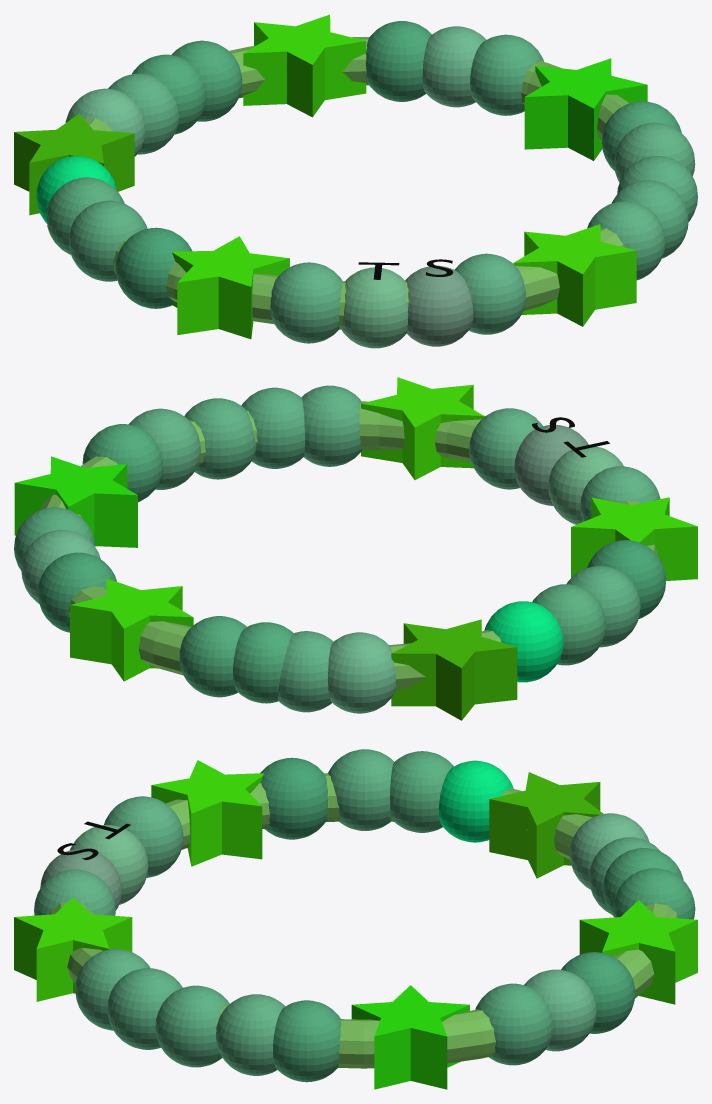
File: TaylorSwift_TS.fbx
3 renders of one model, top to bottom at view 1: azimuth 30°, elevation 25°; view 2: azimuth 150°, elevation 25°; view 3: azimuth 270°, elevation 25°, orthographic.
Visible parts, largest first — view 1: Star.080, Star.076, Star.077, Star.079, Torus.024, Star.078, Sphere.471, Sphere.470, Sphere.469, Sphere.481, Sphere.483, Sphere.477 (+14 smaller); view 2: Star.078, Torus.024, Star.080, Star.077, Star.079, Star.076, Sphere.475, Sphere.486, Sphere.468, Sphere.485, Sphere.478, Sphere.479 (+14 smaller); view 3: Torus.024, Star.079, Star.077, Star.078, Star.076, Star.080, Sphere.484, Sphere.483, Sphere.472, Sphere.485, Sphere.476, Sphere.474 (+14 smaller).
Part boxes in pixels (bbox=[...]): Star.080: bbox=[243, 14, 366, 117]; Star.076: bbox=[513, 224, 636, 326]; Star.077: bbox=[524, 58, 647, 160]; Star.079: bbox=[172, 236, 289, 339]; Torus.024: bbox=[84, 37, 629, 329]; Star.078: bbox=[14, 114, 134, 215]; Sphere.471: bbox=[270, 262, 342, 343]; Sphere.470: bbox=[341, 267, 407, 348]; Sphere.469: bbox=[405, 265, 473, 346]; Sphere.481: bbox=[366, 21, 431, 101]; Sphere.483: bbox=[470, 34, 543, 115]; Sphere.477: bbox=[454, 253, 526, 334]; Star.078: bbox=[391, 619, 517, 720]; Torus.024: bbox=[40, 401, 657, 690]; Star.080: bbox=[70, 578, 193, 681]; Star.077: bbox=[14, 456, 137, 547]; Star.079: bbox=[571, 497, 697, 580]; Star.076: bbox=[361, 377, 484, 479]; Sphere.475: bbox=[328, 632, 395, 713]; Sphere.486: bbox=[301, 385, 362, 466]; Sphere.468: bbox=[484, 601, 563, 682]; Sphere.485: bbox=[184, 398, 255, 479]; Sphere.478: bbox=[179, 616, 246, 697]; Sphere.479: bbox=[241, 387, 304, 468]; Torus.024: bbox=[50, 773, 678, 1068]; Star.079: bbox=[151, 760, 263, 866]; Star.077: bbox=[351, 985, 469, 1089]; Star.078: bbox=[489, 772, 603, 878]; Star.076: bbox=[14, 897, 132, 1001]; Star.080: bbox=[579, 900, 697, 1004]; Sphere.484: bbox=[273, 1000, 341, 1082]; Sphere.483: bbox=[475, 983, 553, 1065]; Sphere.472: bbox=[260, 757, 328, 839]; Sphere.485: bbox=[155, 985, 229, 1067]; Sphere.476: bbox=[328, 749, 393, 830]; Sphere.474: bbox=[216, 994, 285, 1075].
Size of the model in its own units: 115 by 15.79 by 117.
